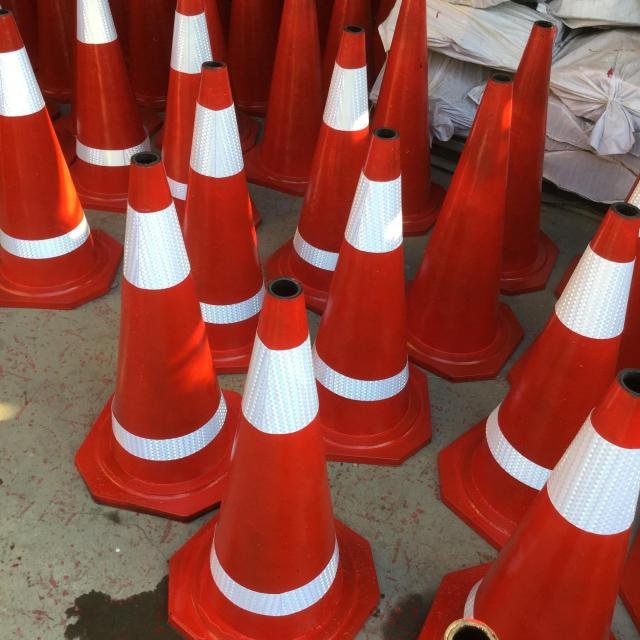reflective_cone: (166, 276, 378, 640), (433, 200, 640, 556), (412, 370, 638, 640), (76, 154, 243, 518), (313, 126, 436, 468), (403, 72, 527, 380), (0, 8, 123, 309), (265, 28, 370, 304), (185, 60, 265, 374), (65, 2, 165, 210)
